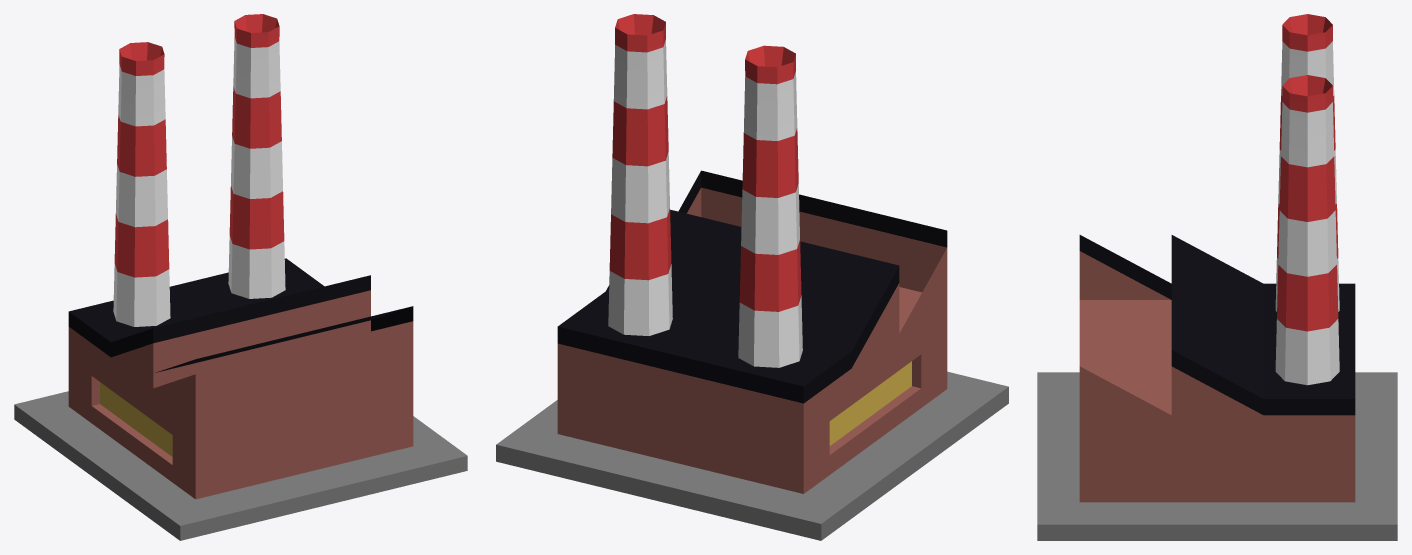
File: FactoryTier2.fbx
The picture shows the model from 3 angles, left to right: view 1: azimuth 30°, elevation 25°; view 2: azimuth 150°, elevation 25°; view 3: azimuth 270°, elevation 25°; orthographic projection. The views are drawn at different scales.
Visible parts, largest first — view 1: Cylinder.005; view 2: Cylinder.005; view 3: Cylinder.005.
Part boxes in pixels (<box>): Cylinder.005: <box>14,14,467,540</box>; Cylinder.005: <box>496,14,1008,540</box>; Cylinder.005: <box>1037,14,1397,540</box>.
Bounding box in the file's own units: 2000 × 2507 × 2000.
